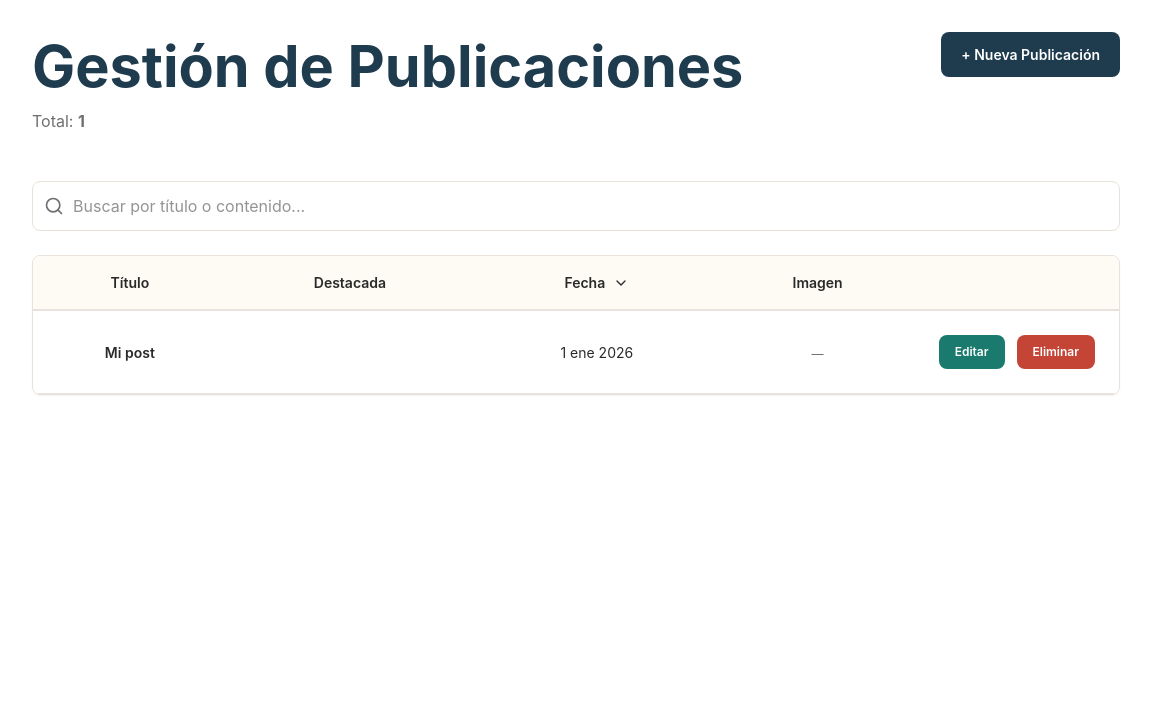
Scenario: delete modal › cancels delete without removing post
Click the button "Eliminar" at (1056, 352), box [1016,335,1095,369]
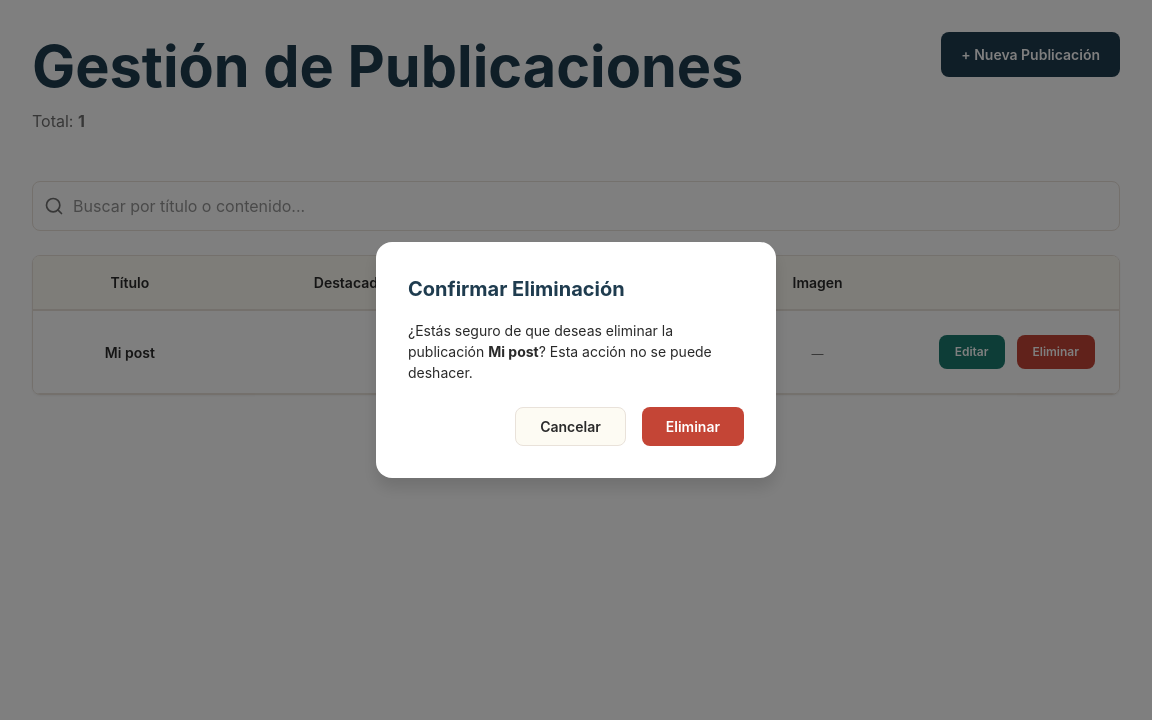
Click the button "Cancelar" at (570, 426), box [515,407,626,446]
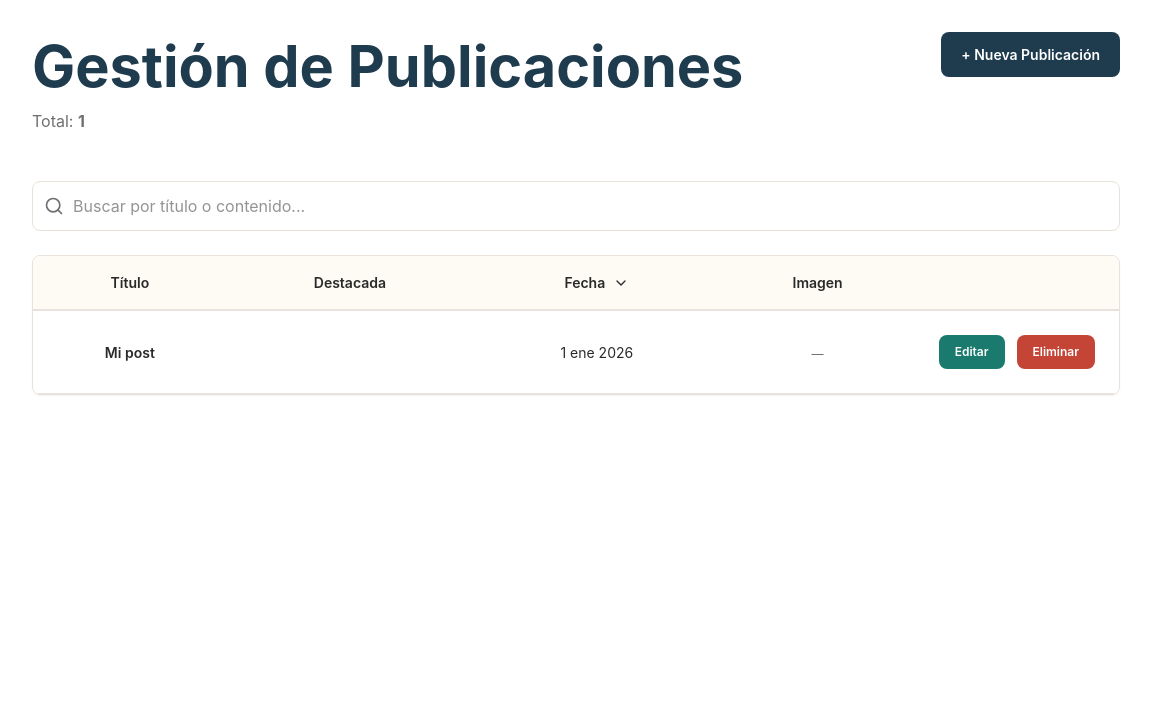
Expected: the text "Mi post" is shown, [33,310,227,394]
Expected: the heading "Confirmar Eliminación" is gone
